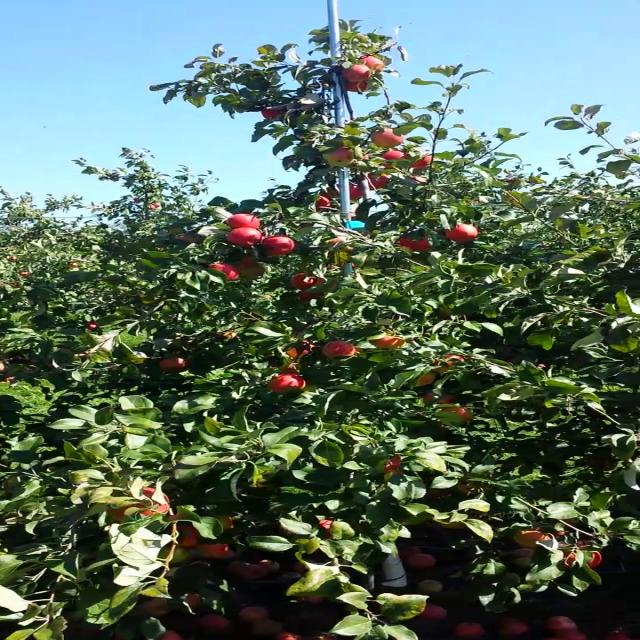apple: (108, 487, 170, 522), (158, 522, 199, 546), (193, 542, 242, 560), (561, 550, 603, 570), (264, 373, 305, 393), (261, 235, 295, 257), (368, 128, 405, 148), (226, 228, 263, 248), (444, 222, 478, 243), (205, 261, 241, 280), (287, 272, 325, 290), (318, 340, 356, 358), (514, 529, 552, 547), (284, 339, 318, 359), (135, 596, 169, 616), (321, 147, 355, 166), (222, 213, 262, 229), (395, 235, 431, 252), (434, 353, 466, 372), (357, 54, 387, 74), (339, 63, 372, 81), (369, 334, 407, 349), (365, 171, 393, 191), (421, 392, 455, 406), (381, 150, 407, 168), (156, 357, 188, 371), (442, 406, 471, 421), (407, 153, 434, 169), (314, 519, 332, 539), (232, 256, 256, 270), (415, 372, 436, 388), (383, 454, 401, 472), (342, 81, 368, 93), (260, 106, 282, 120), (350, 181, 364, 201), (240, 264, 263, 276), (295, 289, 320, 300), (313, 194, 330, 210), (174, 234, 202, 242), (218, 516, 234, 528), (326, 238, 346, 246), (410, 176, 428, 184)
